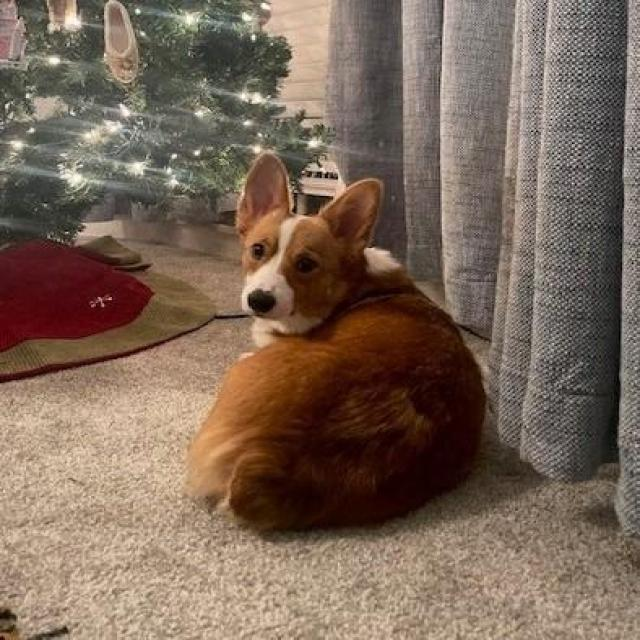corgi_dog: (220, 147, 391, 344)
